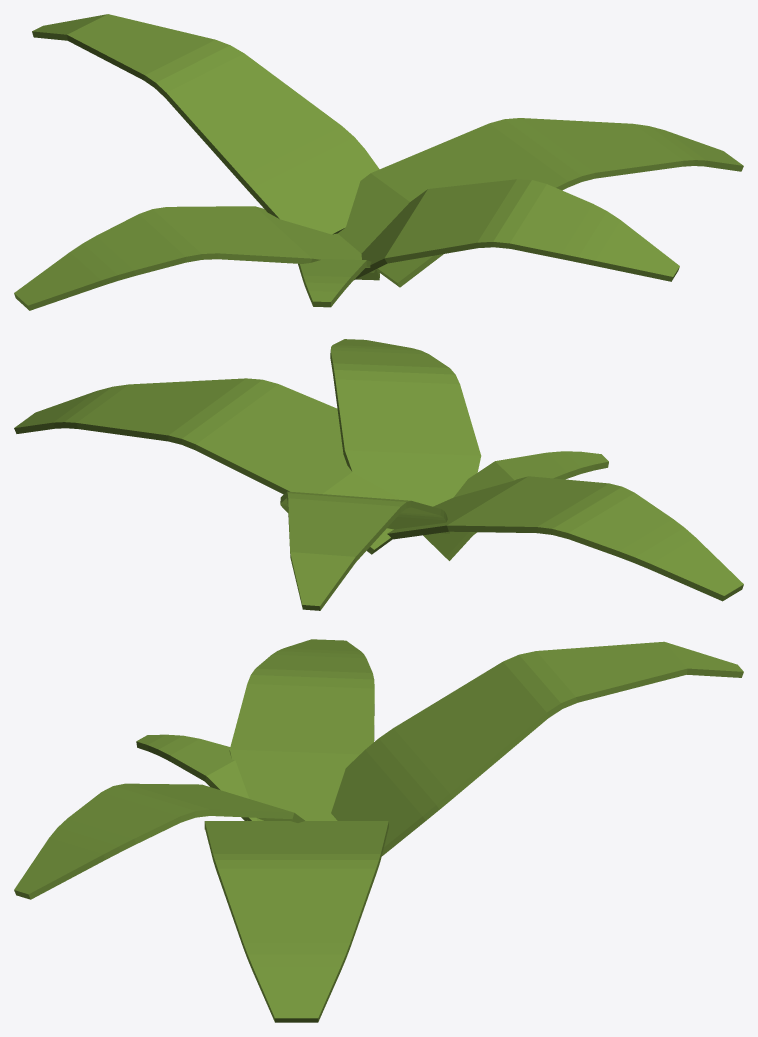
The model's file is Grass_1.fbx.
3 views of the same model, one above another, from view 1: azimuth 30°, elevation 25°; view 2: azimuth 150°, elevation 25°; view 3: azimuth 270°, elevation 25° (orthographic). The views are drawn at different scales.
Parts seen in each view (by area): view 1: Grass_1; view 2: Grass_1; view 3: Grass_1.
Boxes of the visible parts, x1,y1,x2,y2 form: Grass_1: (14,14,743,310); Grass_1: (14,339,743,610); Grass_1: (14,639,743,1022).
Bounding box in the file's own units: 75.28 × 14.58 × 64.5.
